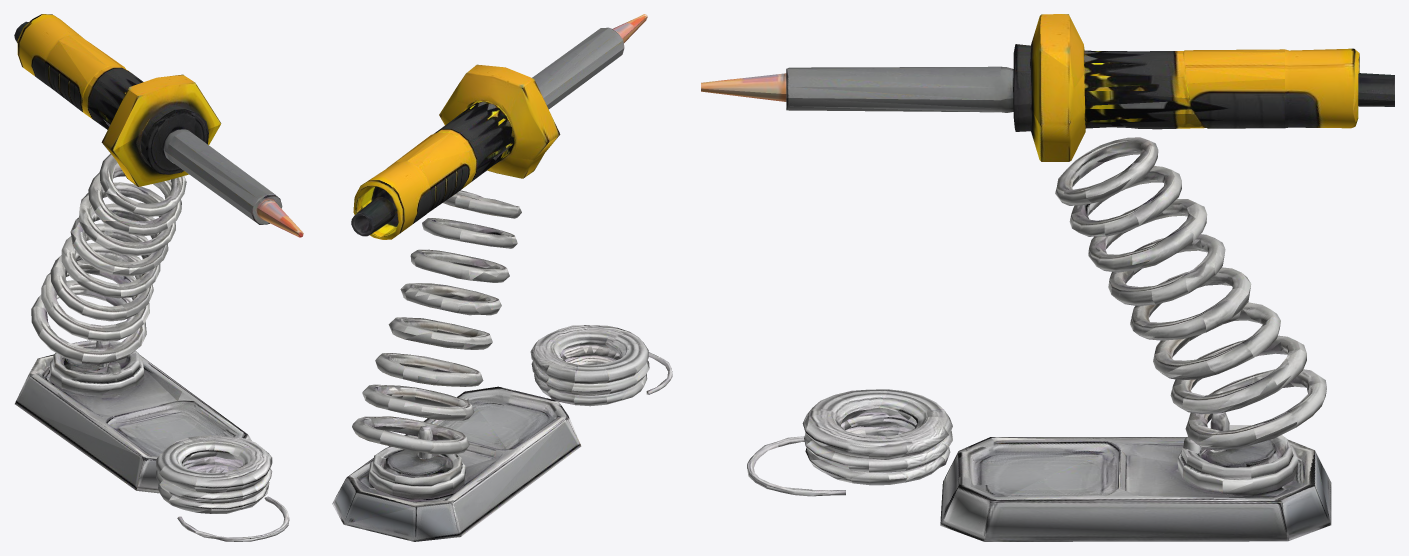
Rendered from soldering_iron.glb.
3 renders of one model, left to right at view 1: azimuth 30°, elevation 25°; view 2: azimuth 150°, elevation 25°; view 3: azimuth 270°, elevation 25°, orthographic. The views are drawn at different scales.
Bounding box in the file's own units: 0.2979 × 0.752 × 1.
1 material, 1 textured.
